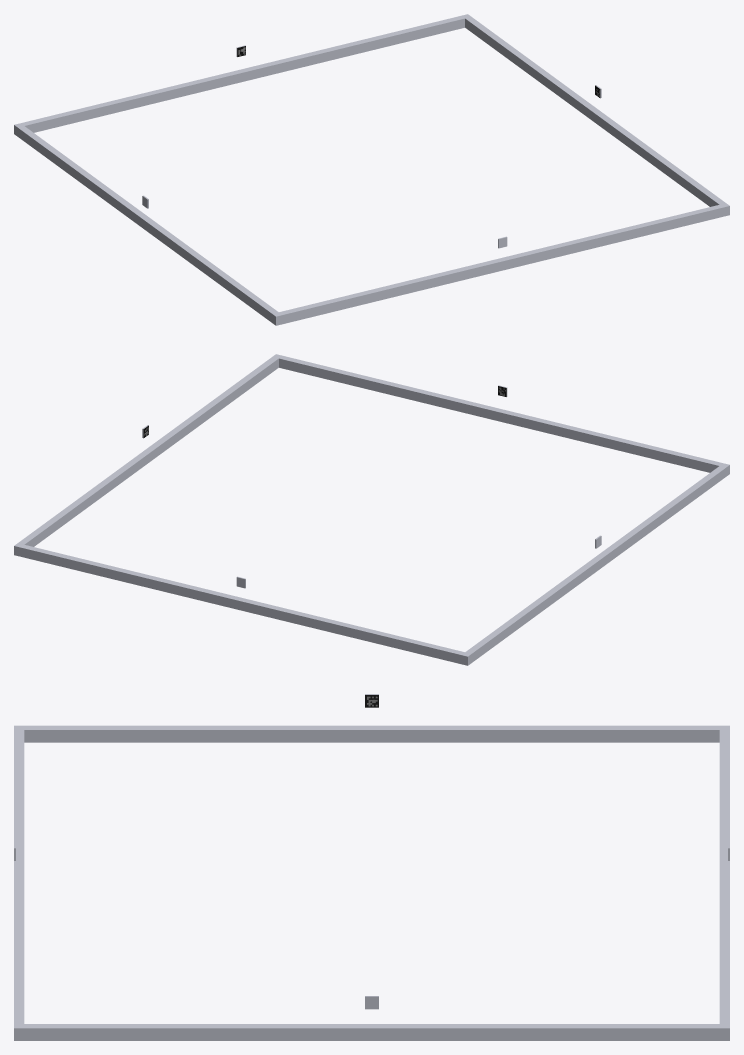
Rendered from Luna_Arena_Tags.dae.
3 views of the same model, one above another, from view 1: azimuth 30°, elevation 25°; view 2: azimuth 150°, elevation 25°; view 3: azimuth 270°, elevation 25° (orthographic). The views are drawn at different scales.
Visible parts, largest first — view 1: mesh11, mesh12, mesh8, mesh13, mesh9; view 2: mesh11, mesh14, mesh6, mesh13, mesh9; view 3: mesh11, mesh15, mesh7.
Boxes of the visible parts, left/top/right/bottom form: mesh11: left=14, top=14, right=729, bottom=316; mesh12: left=276, top=206, right=729, bottom=325; mesh8: left=25, top=18, right=464, bottom=132; mesh13: left=14, top=125, right=275, bottom=325; mesh9: left=465, top=18, right=719, bottom=206; mesh11: left=14, top=354, right=729, bottom=656; mesh14: left=14, top=546, right=467, bottom=665; mesh6: left=279, top=358, right=718, bottom=472; mesh13: left=468, top=465, right=729, bottom=665; mesh9: left=24, top=358, right=278, bottom=546; mesh11: left=14, top=725, right=729, bottom=1028; mesh15: left=14, top=1028, right=729, bottom=1040; mesh7: left=24, top=730, right=719, bottom=742.
Bounding box in the file's own units: 10.3 × 10.3 × 0.7.
Materials: 5 (4 with a texture image).
